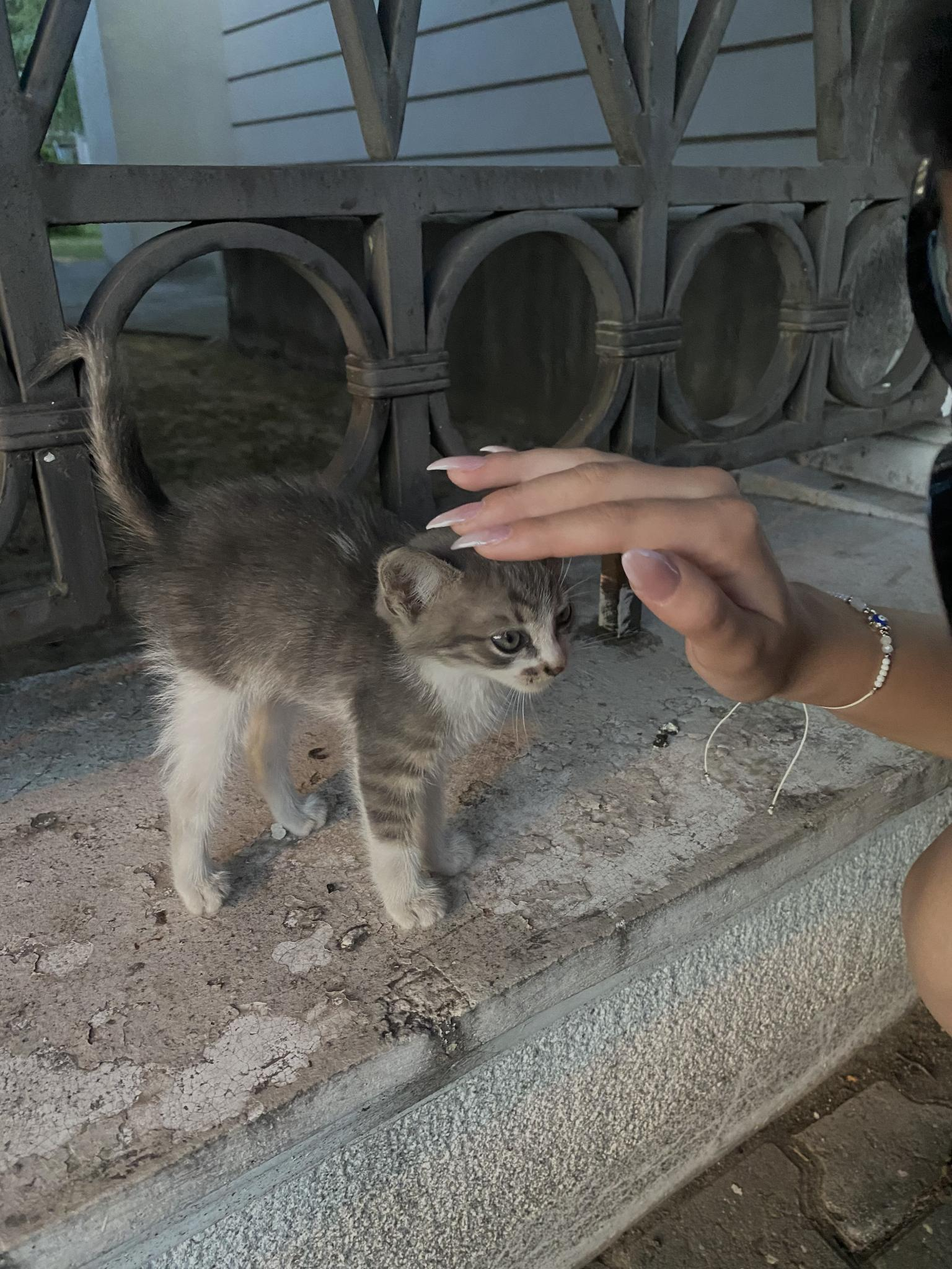macka: (47, 326, 578, 932)
